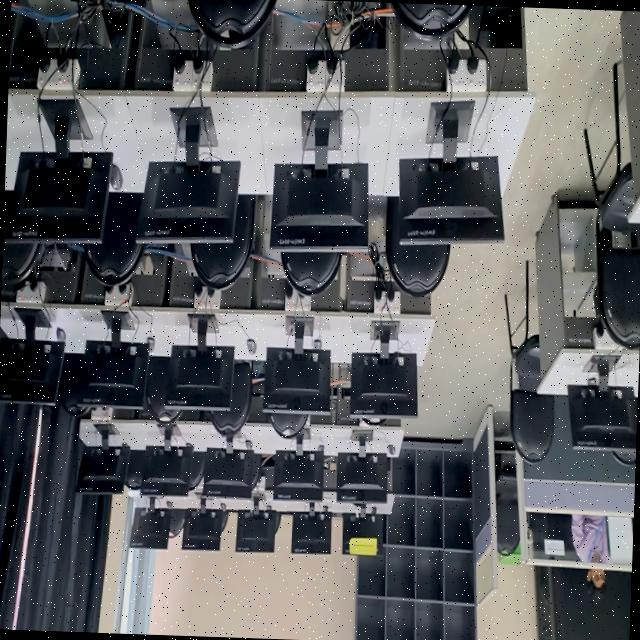Chair: (583, 129, 640, 348), (505, 273, 553, 463), (386, 197, 450, 297), (190, 195, 255, 290), (83, 193, 145, 289), (1, 192, 45, 294), (187, 0, 276, 49), (390, 2, 473, 40), (210, 362, 252, 437), (494, 443, 520, 562), (144, 356, 182, 428), (280, 252, 342, 296), (58, 354, 89, 417), (268, 415, 308, 438), (189, 452, 205, 490), (169, 509, 185, 537)
Cpu: (328, 0, 387, 57)
Monitor: (135, 123, 240, 243), (5, 152, 113, 243), (398, 156, 503, 243), (270, 164, 369, 252), (165, 316, 234, 411), (79, 319, 150, 408), (568, 385, 638, 463), (263, 347, 330, 414), (350, 352, 417, 418), (0, 337, 65, 405), (202, 448, 262, 499), (76, 444, 131, 494), (273, 449, 324, 502), (336, 453, 389, 504), (139, 446, 193, 496), (235, 511, 281, 552), (182, 510, 227, 551), (342, 514, 385, 556), (291, 512, 331, 554), (130, 510, 172, 549)
Mouse: (110, 164, 123, 190), (56, 328, 66, 342), (247, 340, 256, 355), (147, 337, 154, 352), (313, 339, 321, 348), (387, 446, 394, 456), (245, 440, 252, 450)
